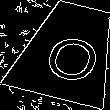O_N: (34, 21, 102, 82)
